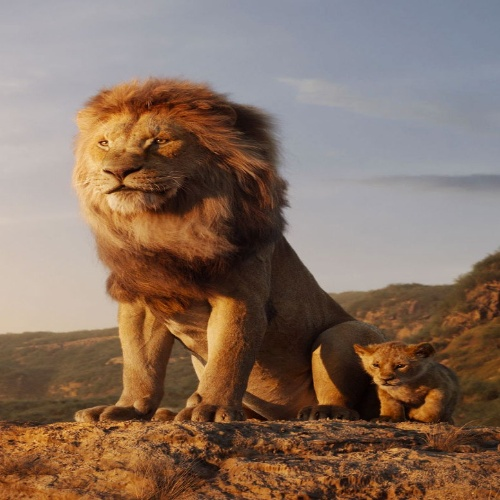lion: (1, 56, 476, 443)
